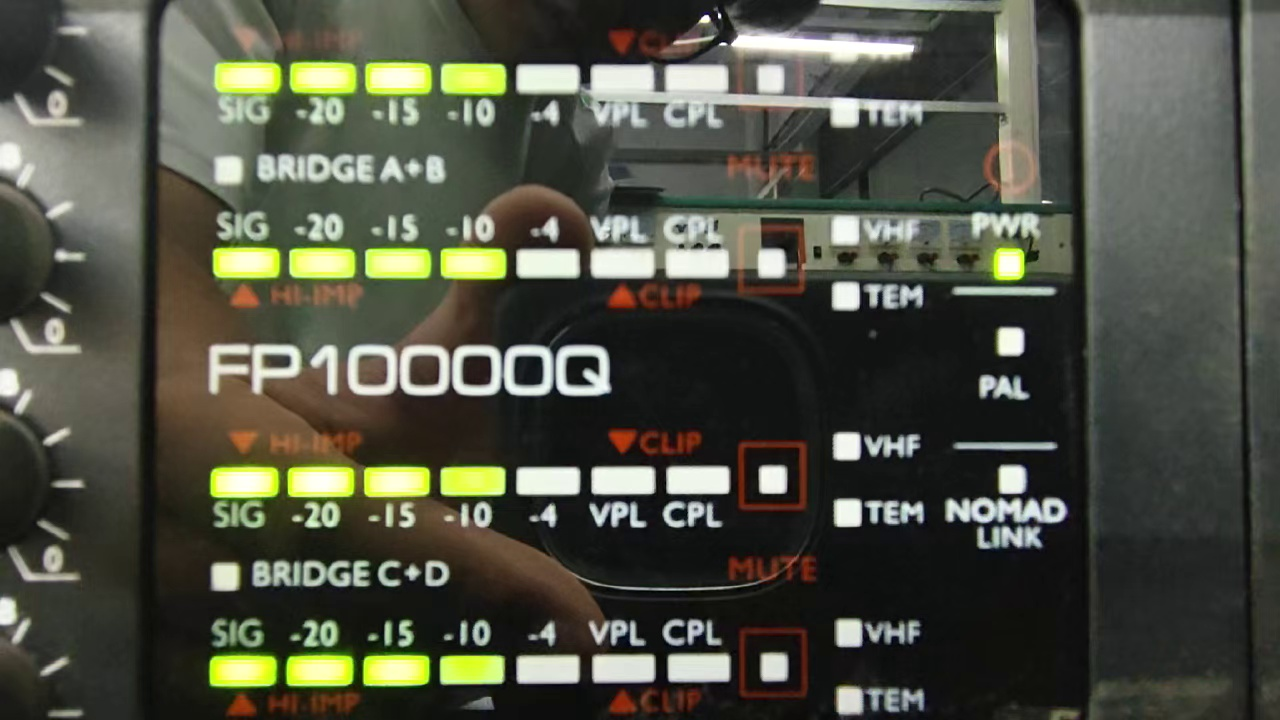FP_CPL: (659, 206, 735, 288), (660, 612, 737, 687), (661, 55, 733, 134), (661, 461, 733, 539)
FP_PWR: (964, 204, 1046, 282)
FP_PWR_area: (950, 138, 1056, 290)
FP_SIG_area: (199, 203, 929, 318), (199, 423, 926, 537), (204, 608, 928, 714), (214, 49, 935, 133)
FP_VPL: (586, 207, 660, 288), (587, 56, 658, 134), (586, 459, 657, 536), (586, 612, 658, 687)
